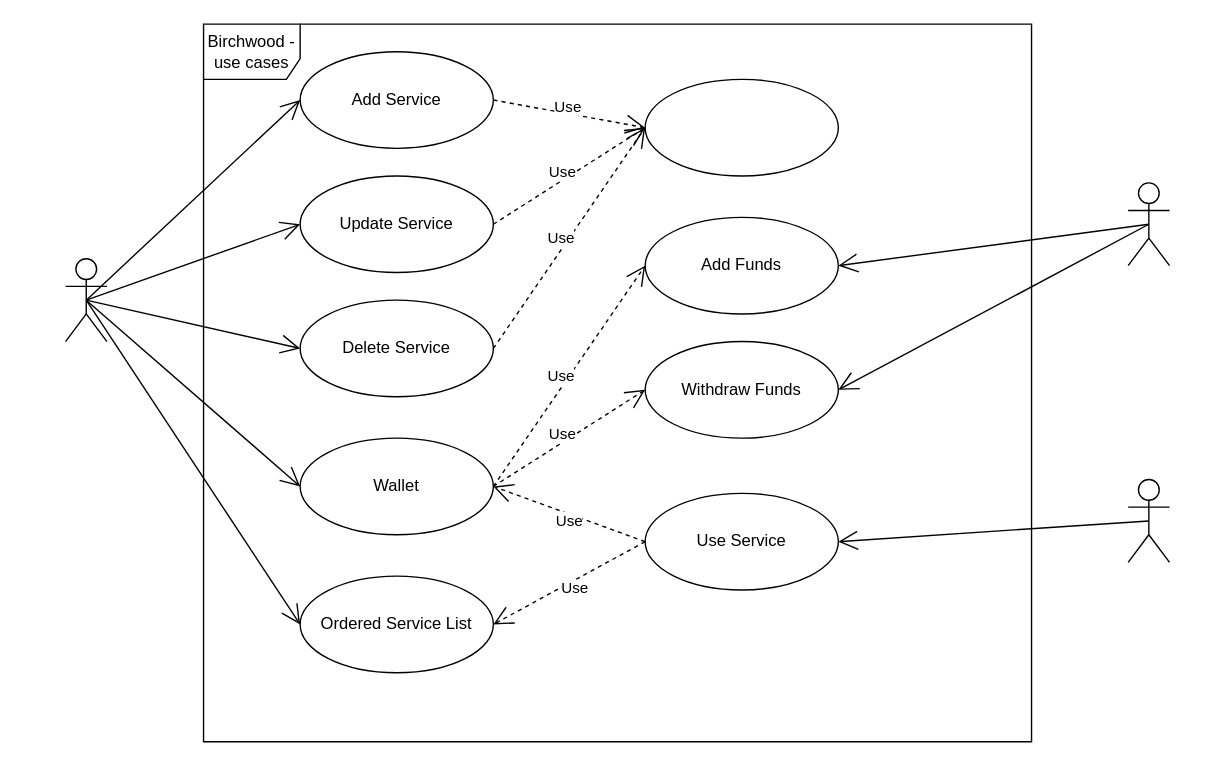
Image size: 1220x766. Some labels were removed from this diagram. Each missing label, with the box of its shape:
3rd Party Vendor: (64, 257, 107, 342)
Bank/Paypal: (1127, 181, 1170, 266)
Login: (644, 78, 838, 176)
Service User: (1127, 478, 1170, 562)
